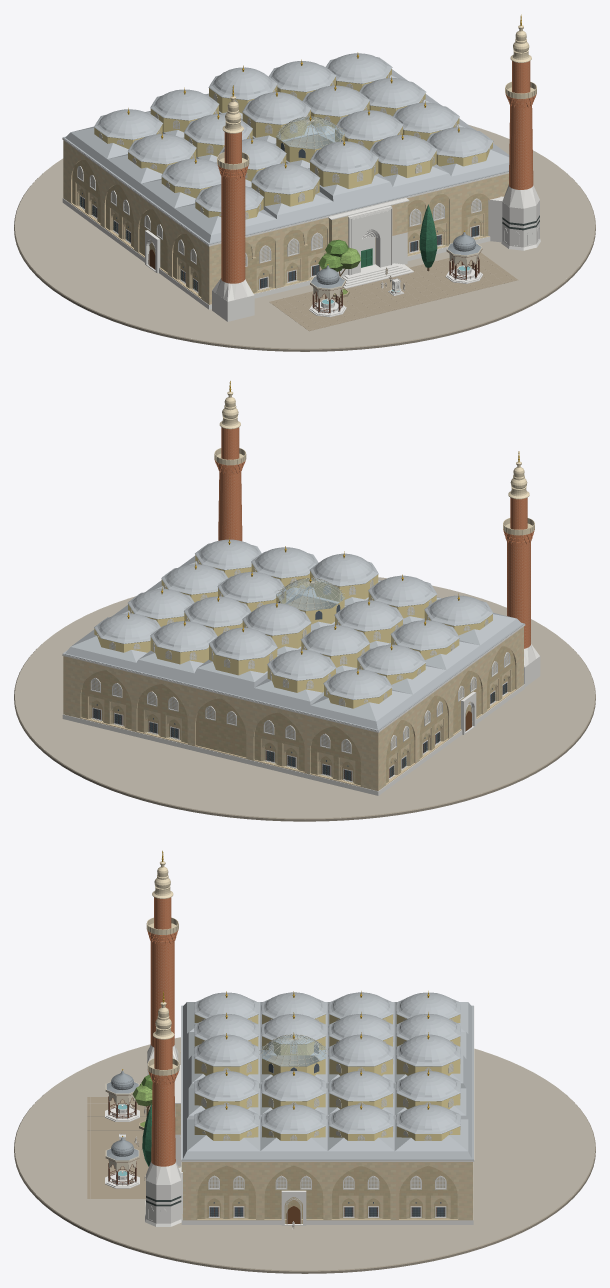
The model's file is ulu-cami_v30_sunum.glb.
3 views of the same model, one above another, from view 1: azimuth 30°, elevation 25°; view 2: azimuth 150°, elevation 25°; view 3: azimuth 270°, elevation 25° (orthographic).
Parts seen in each view (by area): view 1: Zemin_Kaide, Kubbeler_19, Cati, Cephe_Kuzey, Cephe_Dogu, Minare_1, Zemin_Avlu_Tas, Minare_2, Pencere_Girintileri, Tac_Kapi, Sadirvan_Kubbe, Giris_Cikintili_Blok (+10 smaller); view 2: Zemin_Kaide, Kubbeler_19, Cephe_Guney, Cati, Cephe_Dogu, Pencere_Girintileri, Minare_2, Minare_1, Mermer_Bant, Sadirvan_Kubbe, Kasnak_Pencereleri, Silme_Ust (+2 smaller); view 3: Zemin_Kaide, Kubbeler_19, Cephe_Bati, Cati, Minare_1, Zemin_Avlu_Tas, Minare_2, Pencere_Girintileri, Sadirvan_Kubbe, Kasnak_Pencereleri, Mermer_Bant, Avlu_Sadirvan_Bati (+5 smaller).
Boxes of the visible parts, bbox=[...] form: Zemin_Kaide: bbox=[14, 124, 595, 351]; Kubbeler_19: bbox=[94, 53, 493, 219]; Cati: bbox=[62, 69, 509, 244]; Cephe_Kuzey: bbox=[208, 173, 508, 304]; Cephe_Dogu: bbox=[64, 141, 208, 304]; Minare_1: bbox=[488, 14, 540, 250]; Zemin_Avlu_Tas: bbox=[269, 252, 517, 331]; Minare_2: bbox=[212, 85, 254, 321]; Pencere_Girintileri: bbox=[76, 182, 484, 295]; Tac_Kapi: bbox=[342, 206, 413, 288]; Sadirvan_Kubbe: bbox=[276, 117, 344, 162]; Giris_Cikintili_Blok: bbox=[328, 198, 409, 277]; Zemin_Kaide: bbox=[14, 577, 595, 821]; Kubbeler_19: bbox=[94, 539, 493, 708]; Cephe_Guney: bbox=[63, 656, 378, 790]; Cati: bbox=[63, 556, 524, 731]; Cephe_Dogu: bbox=[379, 627, 523, 790]; Pencere_Girintileri: bbox=[87, 669, 511, 783]; Minare_2: bbox=[503, 451, 540, 686]; Minare_1: bbox=[214, 381, 246, 541]; Mermer_Bant: bbox=[62, 684, 524, 795]; Sadirvan_Kubbe: bbox=[276, 578, 344, 624]; Kasnak_Pencereleri: bbox=[97, 560, 488, 706]; Silme_Ust: bbox=[62, 624, 525, 732]; Zemin_Kaide: bbox=[14, 1037, 595, 1273]; Kubbeler_19: bbox=[194, 992, 460, 1140]; Cephe_Bati: bbox=[183, 1162, 471, 1223]; Cati: bbox=[181, 1002, 473, 1160]; Minare_1: bbox=[145, 991, 182, 1226]; Zemin_Avlu_Tas: bbox=[87, 1097, 150, 1198]; Minare_2: bbox=[146, 850, 178, 1075]; Pencere_Girintileri: bbox=[204, 1195, 450, 1218]; Sadirvan_Kubbe: bbox=[261, 1035, 325, 1075]; Kasnak_Pencereleri: bbox=[201, 1014, 460, 1140]; Mermer_Bant: bbox=[181, 1162, 473, 1224]; Avlu_Sadirvan_Bati: bbox=[105, 1136, 139, 1188].
Size of the model in its own units: 111 by 48.52 by 111.
62 materials, 14 textured.
